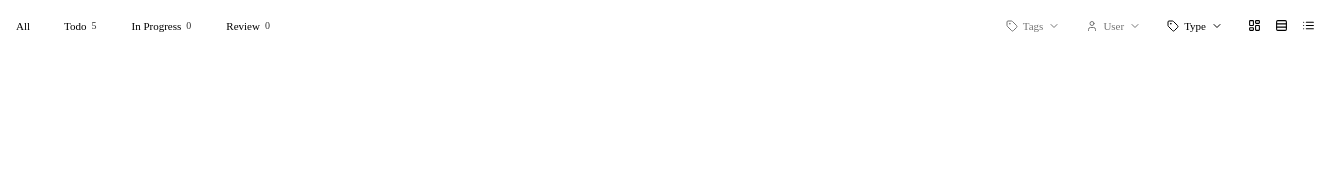
Scenario: FilterBar type filter (zbew735s) › shows exactly three type options despite legacy values on the board
Click the button "Type" at (1195, 26), box [1157,16,1233,34]
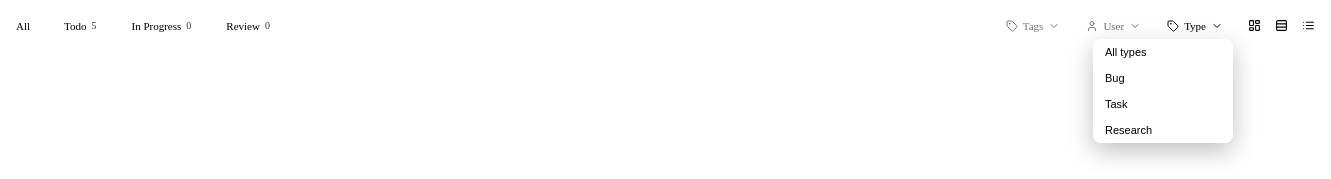
Expected: the button "All types" is shown, [1093,38,1233,64]
Expected: the button "Bug" is shown, [1093,64,1233,90]
Expected: the button "Task" is shown, [1093,90,1233,116]
